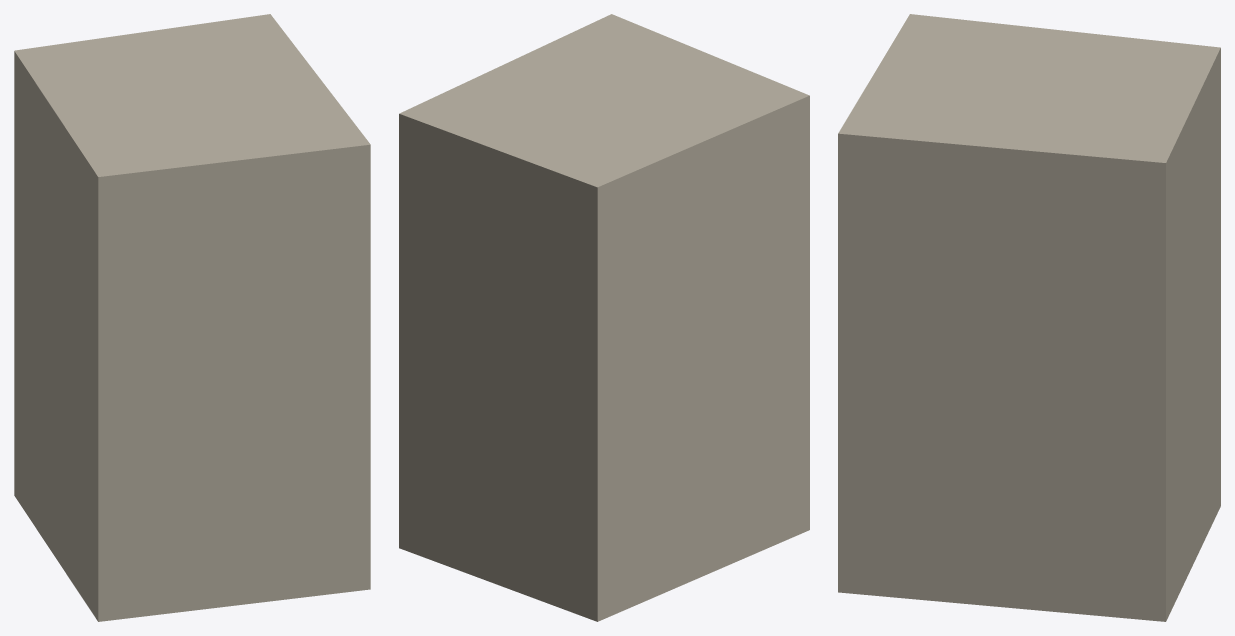
File: kalkara_65_27_collision.glb
The picture shows the model from 3 angles, left to right: view 1: azimuth 30°, elevation 25°; view 2: azimuth 150°, elevation 25°; view 3: azimuth 270°, elevation 25°; orthographic projection. The views are drawn at different scales.
Visible parts, largest first — view 1: geometry_0; view 2: geometry_0; view 3: geometry_0.
Boxes of the visible parts, box(x1,y1,x2,y2) form: geometry_0: box(14, 14, 370, 621); geometry_0: box(399, 14, 809, 621); geometry_0: box(838, 14, 1220, 621).
Size of the model in its own units: 7.61 by 10.91 by 8.25.
